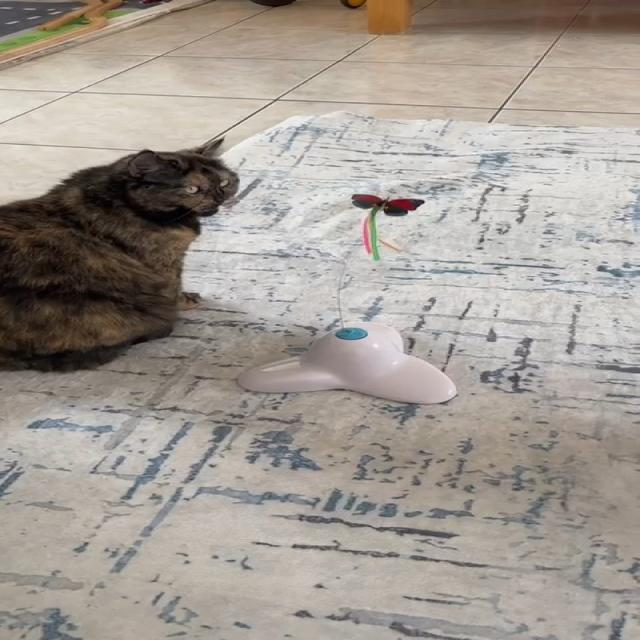authorized: (0, 135, 240, 373)
